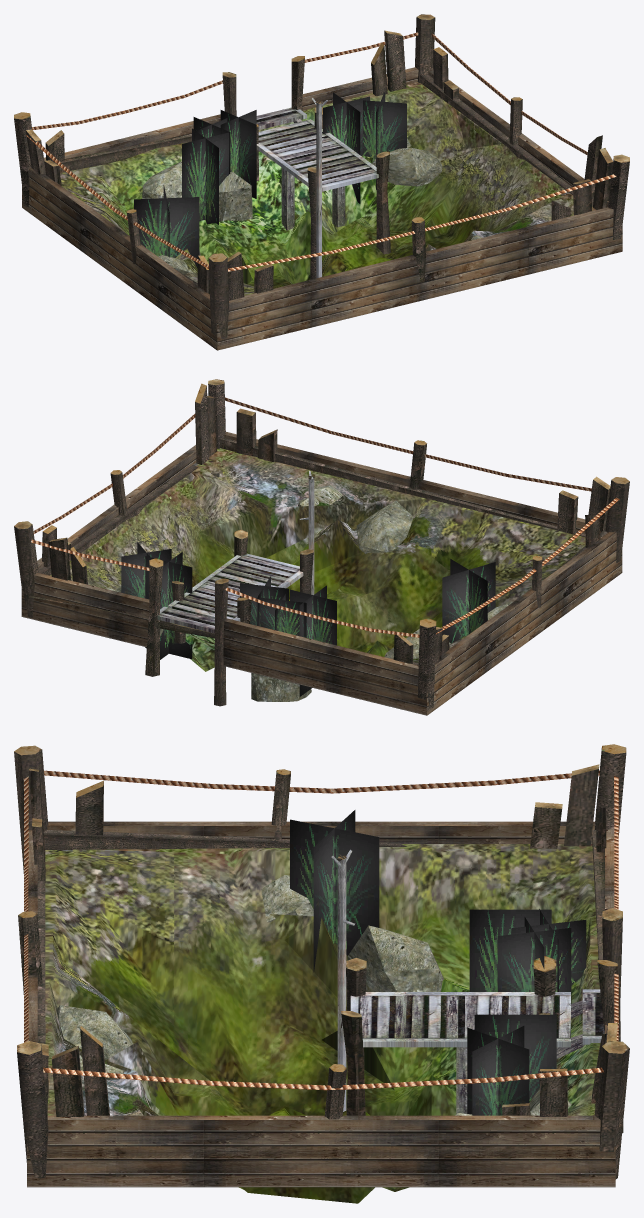
The picture shows the model from 3 angles, top to bottom: view 1: azimuth 30°, elevation 25°; view 2: azimuth 150°, elevation 25°; view 3: azimuth 270°, elevation 25°; orthographic projection. The views are drawn at different scales.
Parts seen in each view (by area): view 1: Box02.001; view 2: Box02.001; view 3: Box02.001.
Boxes of the visible parts, <box> form: Box02.001: <box>14,14,629,350</box>; Box02.001: <box>14,379,629,715</box>; Box02.001: <box>14,744,629,1203</box>.
Size of the model in its own units: 1280 by 590 by 1073.
Materials: 9 (9 with a texture image).
